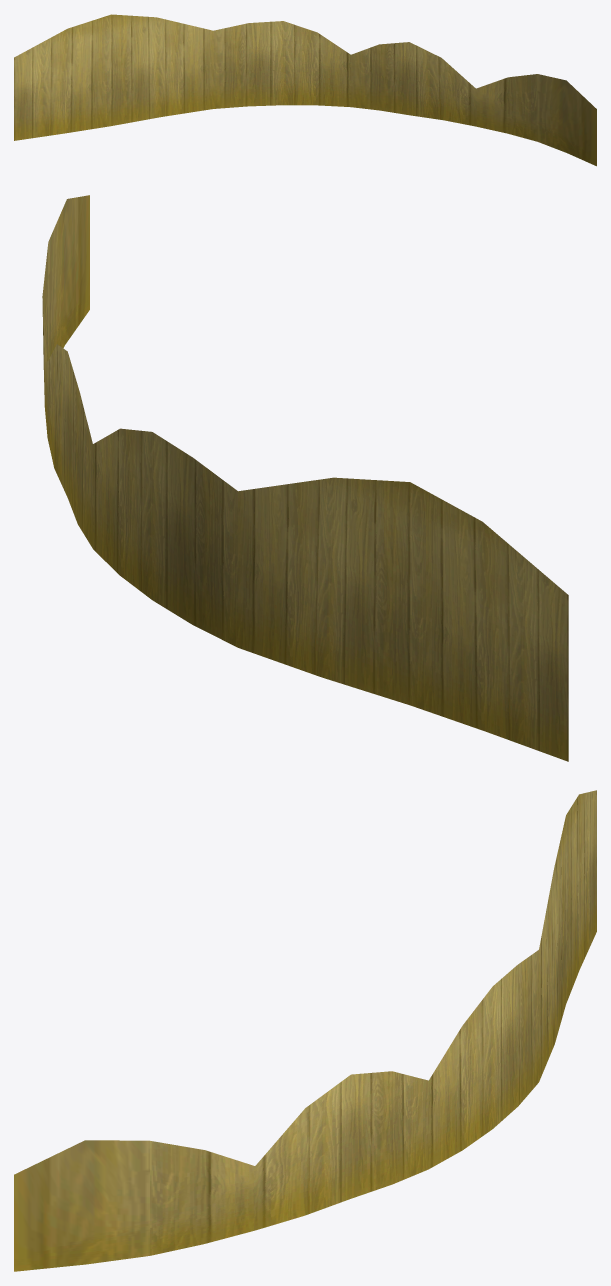
Rendered from HTOWN01_BAGENDFRONT.fbx.
3 renders of one model, top to bottom at view 1: azimuth 30°, elevation 25°; view 2: azimuth 150°, elevation 25°; view 3: azimuth 270°, elevation 25°, orthographic. The views are drawn at different scales.
Visible parts, largest first — view 1: HTOWN01_BAGENDFRONT; view 2: HTOWN01_BAGENDFRONT; view 3: HTOWN01_BAGENDFRONT.
Boxes of the visible parts, x1=… form: HTOWN01_BAGENDFRONT: x1=14, y1=14, x2=596, y2=166; HTOWN01_BAGENDFRONT: x1=42, y1=195, x2=568, y2=761; HTOWN01_BAGENDFRONT: x1=14, y1=790, x2=596, y2=1271.
Bounding box in the file's own units: 97494 × 25306 × 70605.
1 material, 1 textured.
